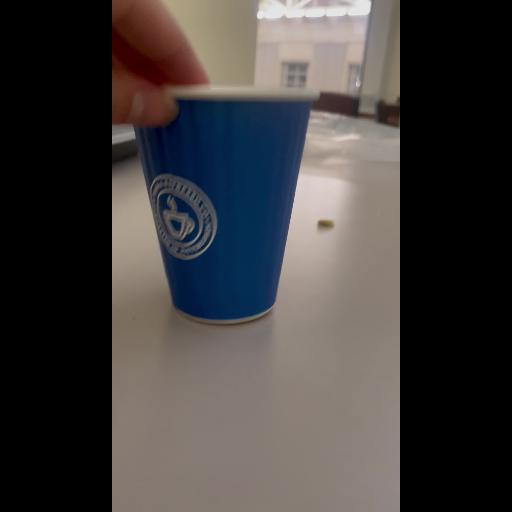lp_paper_cup: (116, 64, 314, 330)
